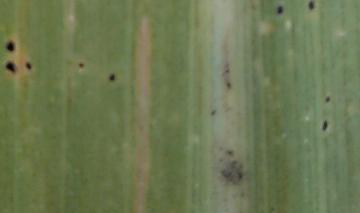tarspot: (220, 159, 245, 185), (223, 61, 232, 88), (6, 62, 17, 73), (6, 42, 15, 52), (107, 72, 116, 82), (322, 119, 328, 131), (277, 5, 284, 15), (25, 62, 33, 70), (323, 96, 332, 103), (308, 2, 315, 10), (227, 149, 234, 157), (78, 61, 84, 69), (210, 109, 216, 117)
